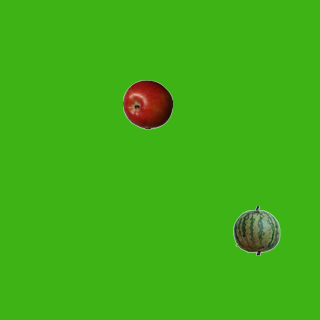Apple Braeburn: (122, 79, 172, 129)
Watermelon: (231, 205, 281, 255)
